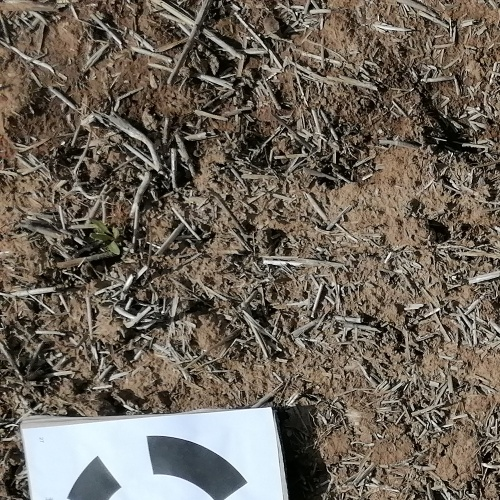beet: (87, 218, 122, 255)
